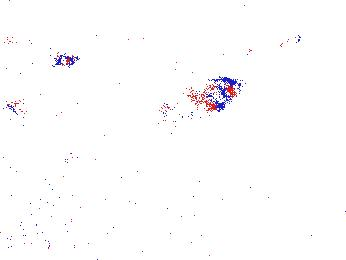X-ray fish: (166, 75, 244, 120), (1, 41, 51, 74)
red belly glassfish: (247, 31, 302, 54), (227, 177, 272, 191)
redtail glassfish: (1, 96, 30, 120)
